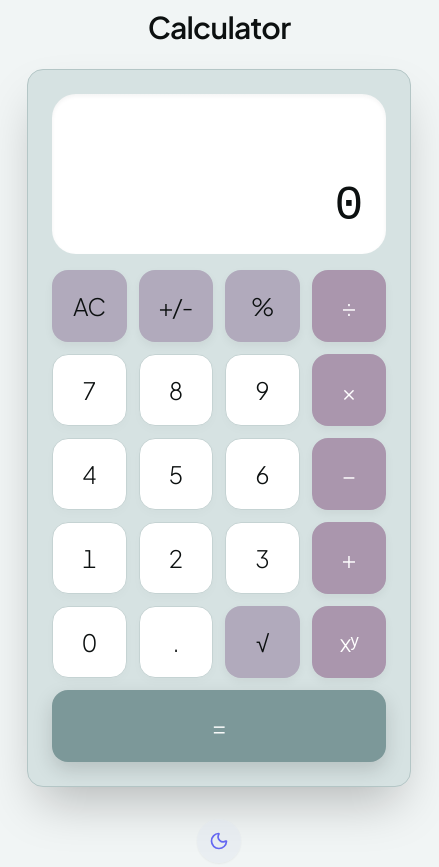
Test case: App Integration › updates display on button clicks and shows expression
Click the button "7" at (89, 390), box [52,354,126,426]
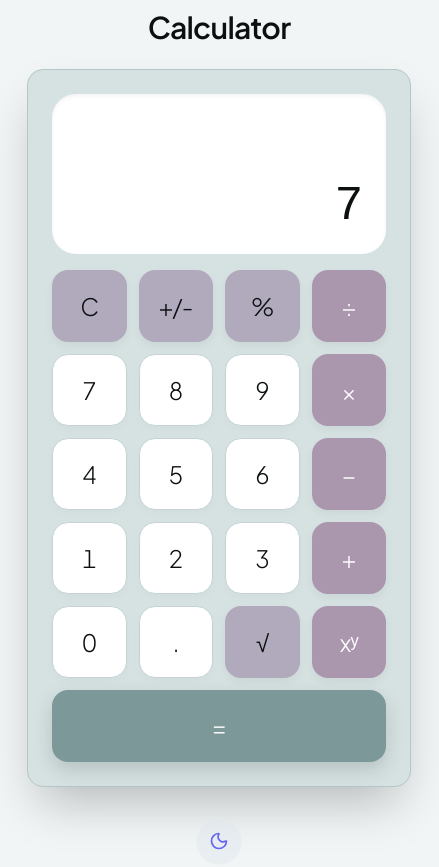
Click the button "+" at (349, 558), box [312,522,386,594]
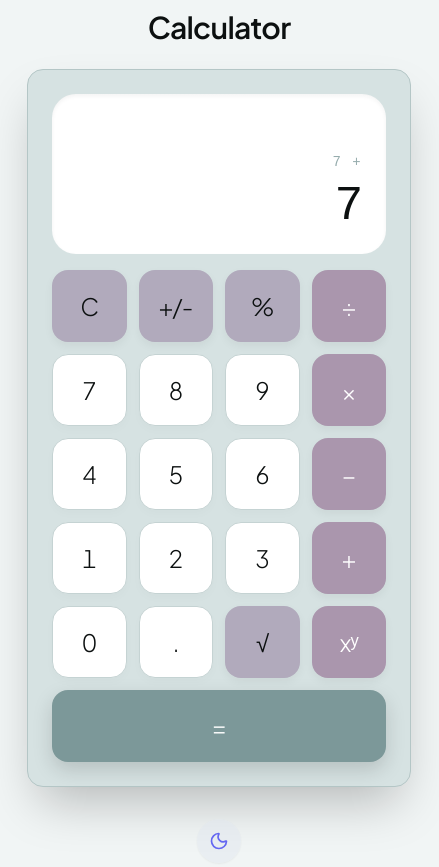
Click the button "3" at (262, 558), box [225,522,300,594]
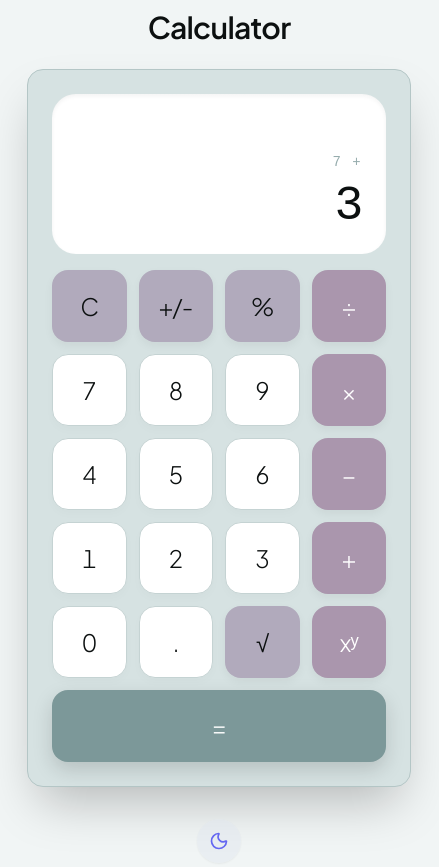
Click the button "=" at (219, 726), box [52,690,386,762]
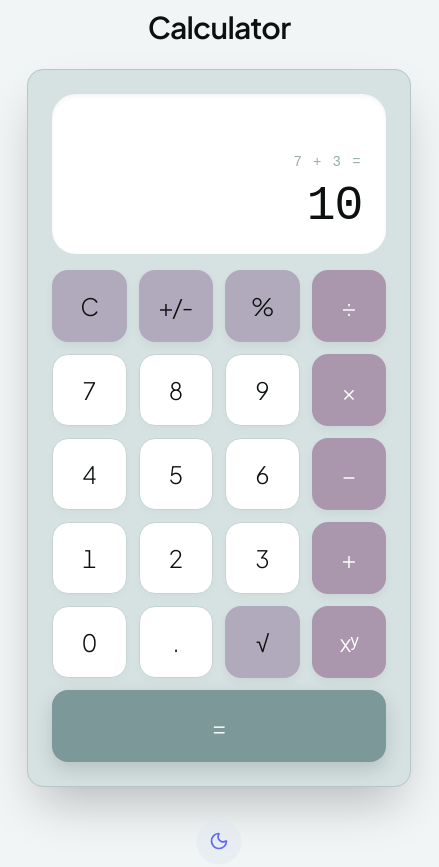
Check: the text "10" is shown, box [307,179,362,233]
Check: the text "7 + 3 =" is shown, box [293,154,362,170]
